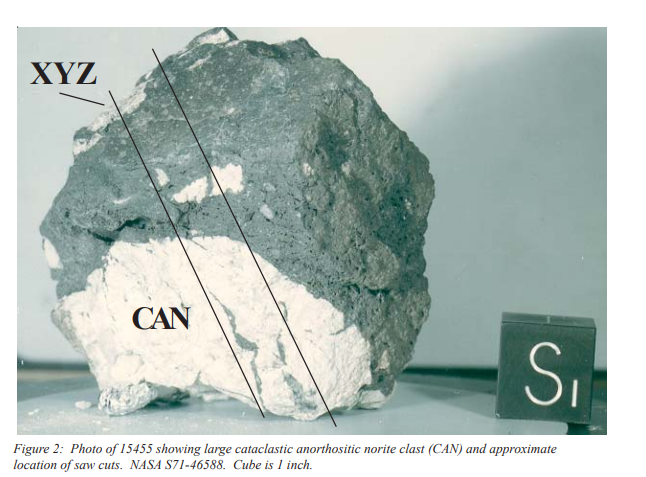Breccia: (106, 94, 420, 414)
